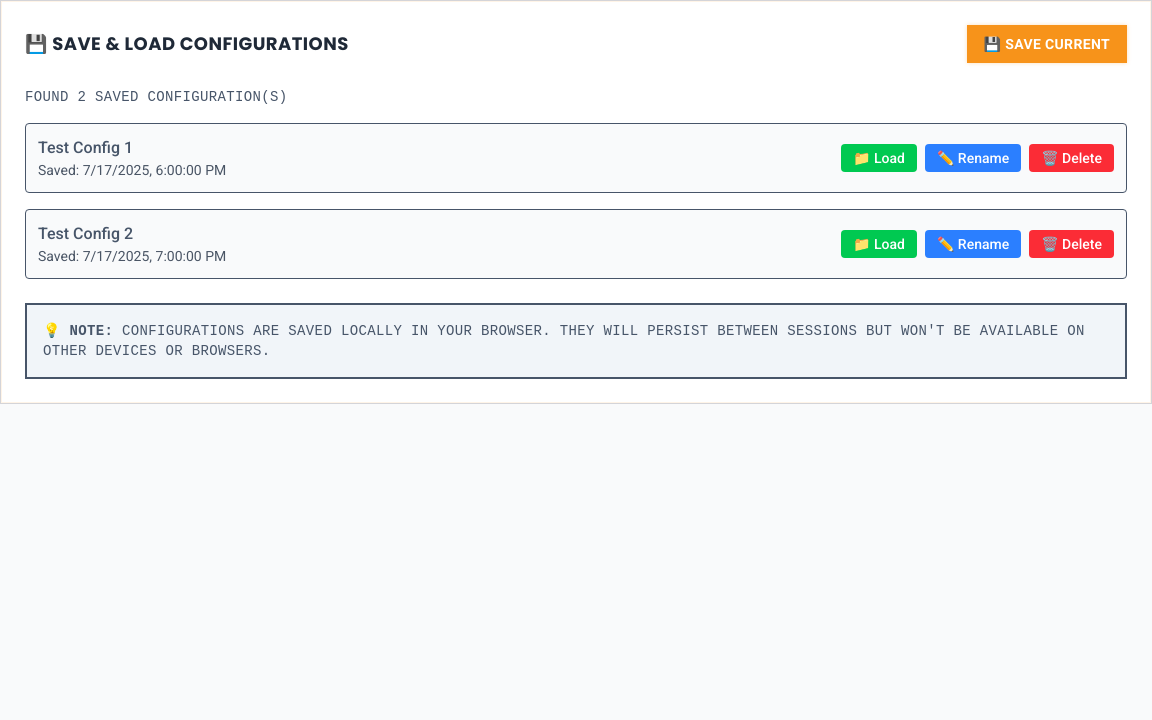
Test: SaveLoadSection › should cancel save dialog
The image size is (1152, 720).
Note: Open save dialog
Click the button "💾 SAVE CURRENT" at (1047, 44), box [967,25,1127,63]
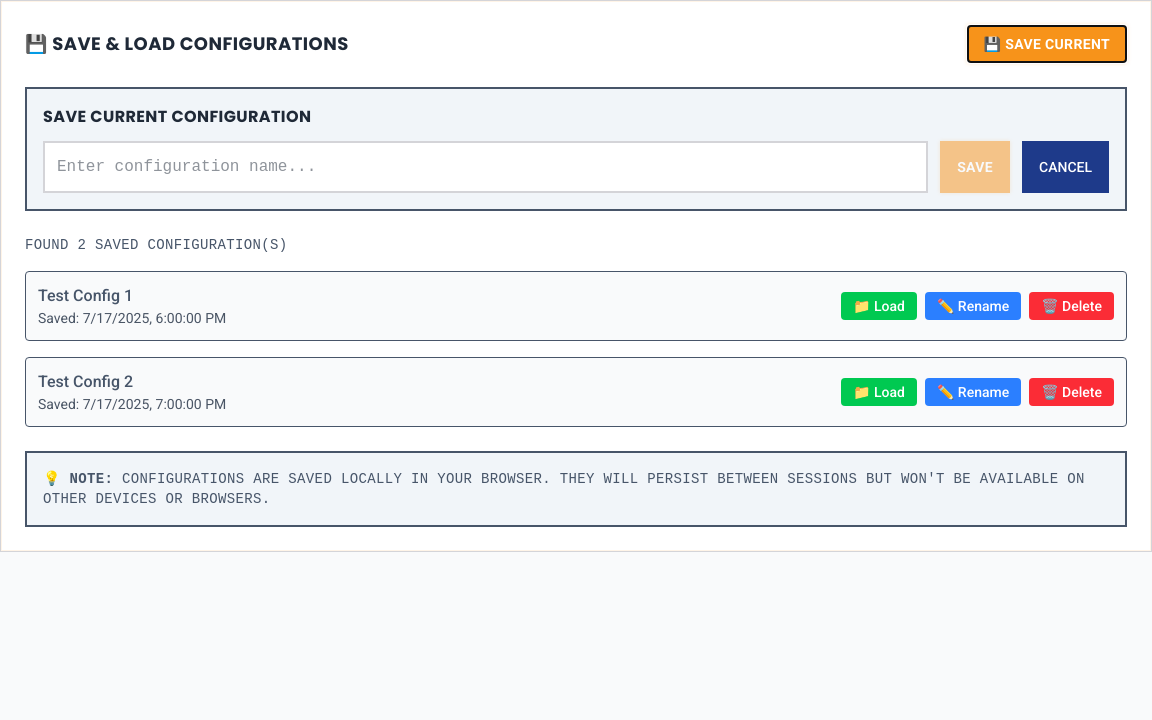
Type "Some text" into the field with placeholder "Enter configuration name..." at (486, 167), box [43,141,928,193]
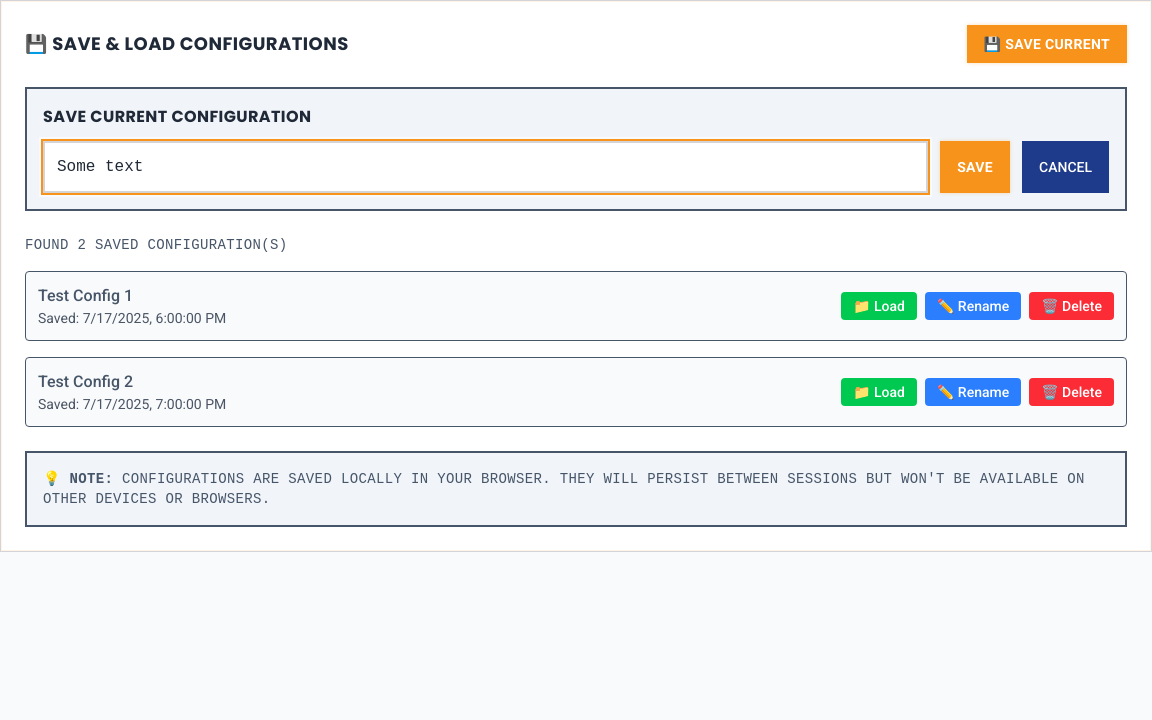
Click the button "CANCEL" at (1066, 167), box [1022,141,1109,193]
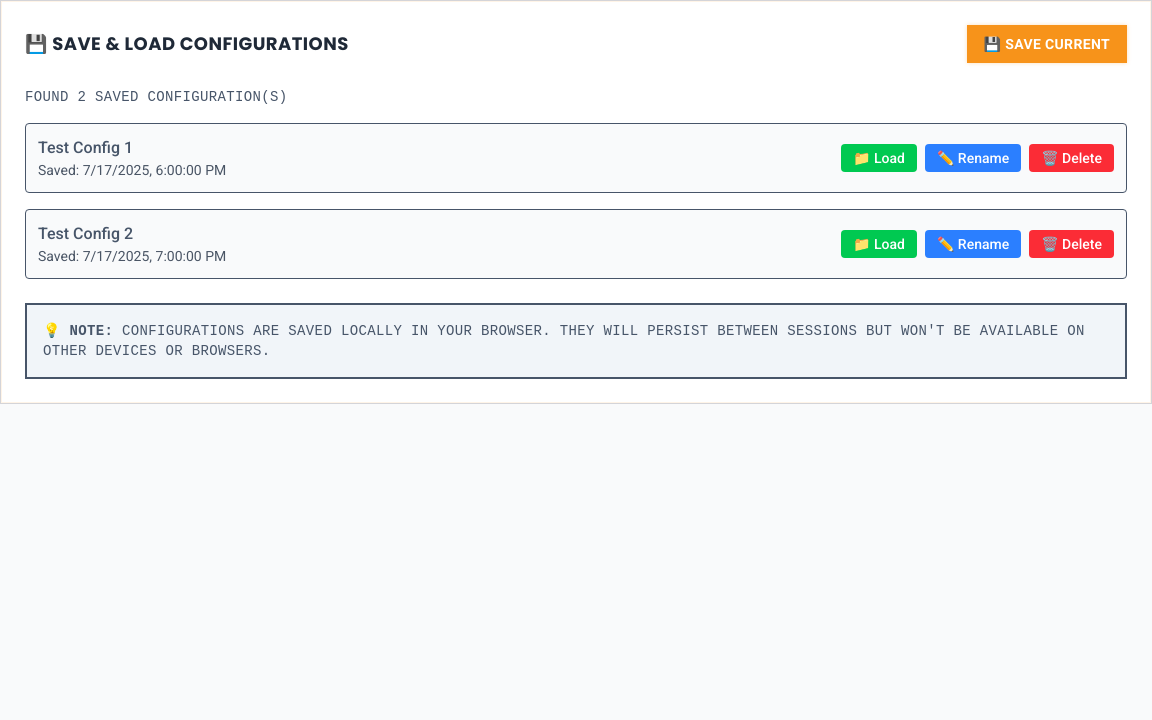
Expected: the heading "SAVE CURRENT CONFIGURATION" is gone
